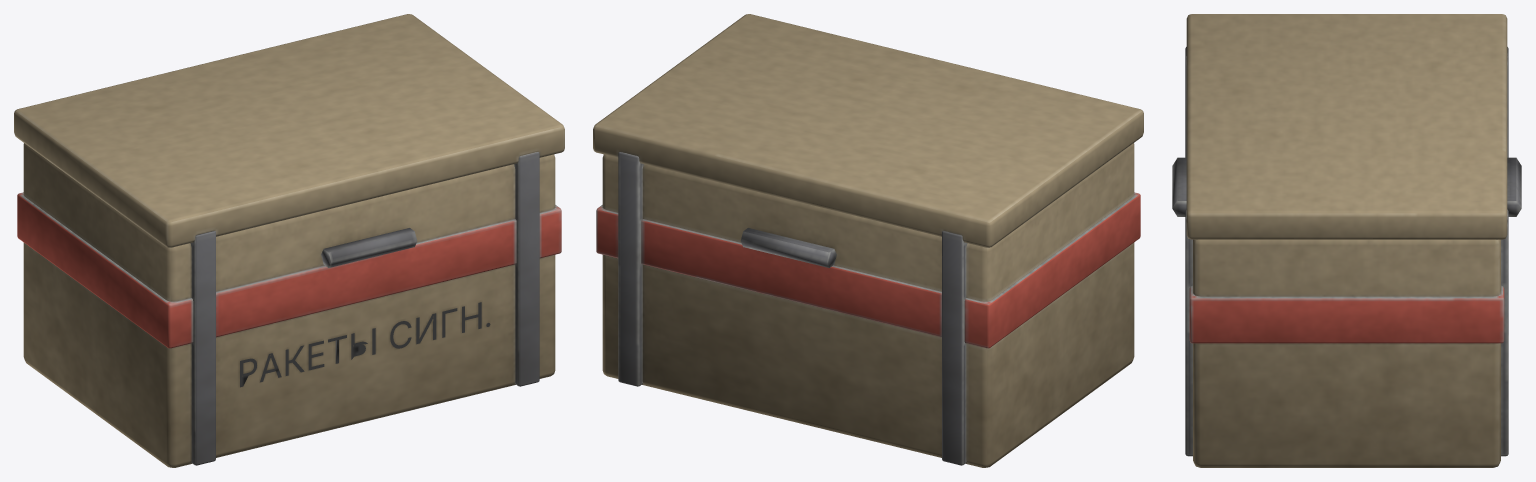
File: lake_flares.glb
The picture shows the model from 3 angles, left to right: view 1: azimuth 30°, elevation 25°; view 2: azimuth 150°, elevation 25°; view 3: azimuth 270°, elevation 25°; orthographic projection. The views are drawn at different scales.
Parts seen in each view (by area): view 1: lake_flares; view 2: lake_flares; view 3: lake_flares.
Part boxes in pixels (x1,y1,x2,y2): lake_flares: (14, 14, 564, 467); lake_flares: (593, 14, 1143, 467); lake_flares: (1172, 14, 1521, 467).
Size of the model in its own units: 0.37 by 0.2245 by 0.272.
1 material, 1 textured.
